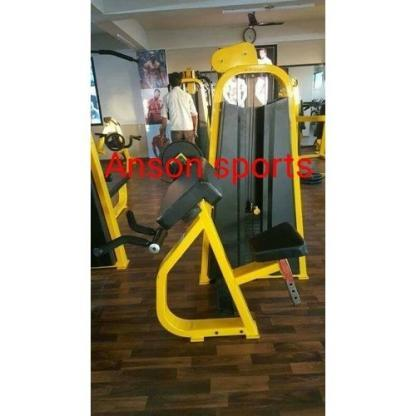arm curl machine: (94, 160, 309, 343)
